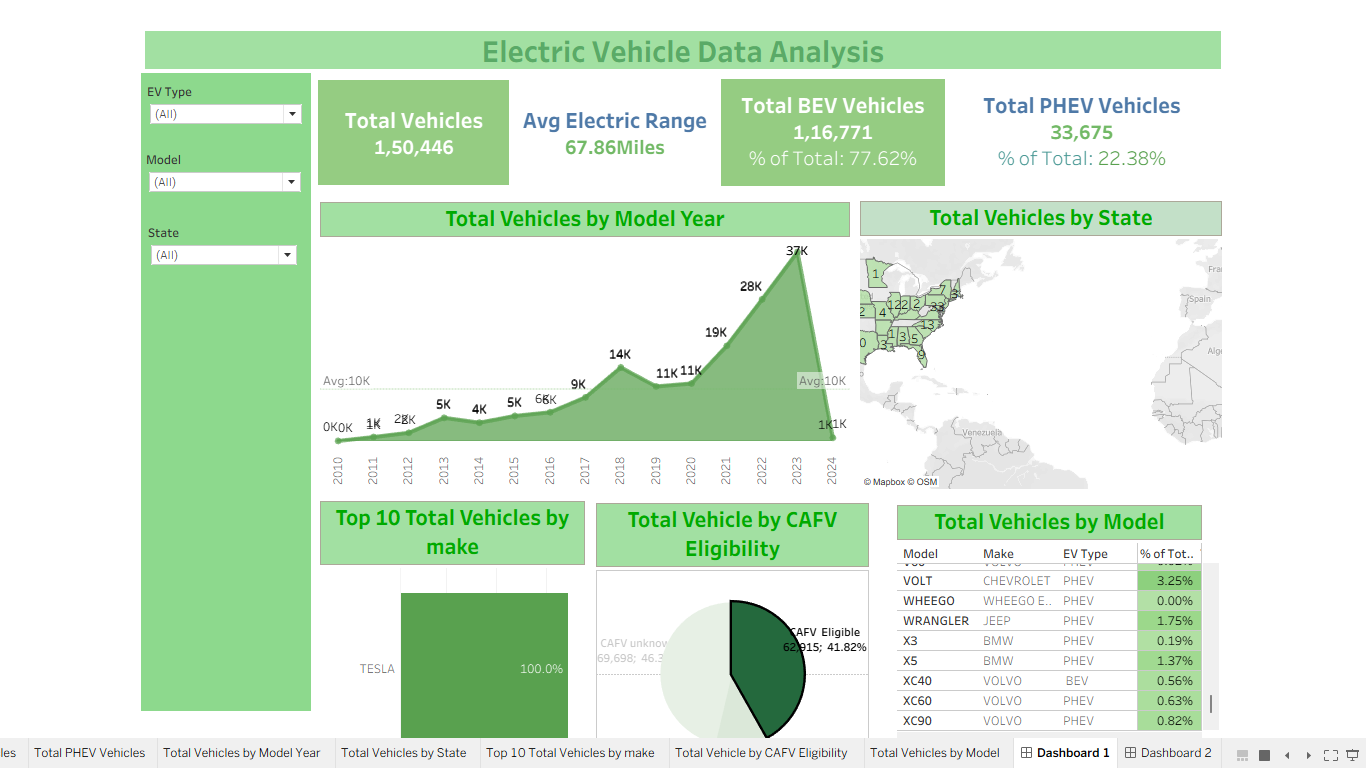

What the dashboard file says about the page in this screenshot:
{"tool":"tableau","page":{"name":"Dashboard 1","canvas":[1100,700],"ordinal":0},"visuals":[{"type":"title","box":[8,8,1084,46]},{"type":"worksheet","title":"Total Vehicles","mark":"Automatic","box":[184.3,60,193,107]},{"type":"worksheet","title":"Avg Electric Ranges","mark":"Automatic","box":[377.3,60,211,107]},{"type":"worksheet","title":"Total BEV Vehicles","mark":"Automatic","box":[588.3,60,224,107]},{"type":"worksheet","title":"Total PHEV Vehicles","mark":"Automatic","box":[812.3,60,273.7,107]},{"type":"filter","title":"Total Vehicles by Model Year","param":"[federated.1l9srur06iqtxf1brun9r1808gy7].[none:Electric Vehicle Type:nk]","box":[14,64,158,48]},{"type":"filter","title":"Total Vehicles by Model Year","param":"[federated.1l9srur06iqtxf1brun9r1808gy7].[none:Model:nk]","box":[13,132,158,54]},{"type":"worksheet","title":"Total Vehicles by State","mark":"Multipolygon","box":[727,182,362,288]},{"type":"worksheet","title":"Total Vehicles by Model Year","mark":"Area","rows":["Calculation_0860666167582720","Calculation_0860666167582720"],"cols":["Model Year"],"box":[187,183,530,290]},{"type":"filter","title":"Total Vehicles by Model Year","param":"[federated.1l9srur06iqtxf1brun9r1808gy7].[none:State:nk]","box":[15,205,152,55]}]}

Visuals, with their boxes on the page's 1100x700 design canvas (x1, y1, x2, y2). These are canvas units, not pixel positions in the 1366x768 screenshot, which may show the page scaled, cropped or inside an application window:
title: box(8, 8, 1092, 54)
"Total Vehicles" worksheet: box(184, 60, 377, 167)
"Avg Electric Ranges" worksheet: box(377, 60, 588, 167)
"Total BEV Vehicles" worksheet: box(588, 60, 812, 167)
"Total PHEV Vehicles" worksheet: box(812, 60, 1086, 167)
"Total Vehicles by Model Year" filter: box(14, 64, 172, 112)
"Total Vehicles by Model Year" filter: box(13, 132, 171, 186)
"Total Vehicles by State" worksheet (Multipolygon marks): box(727, 182, 1089, 470)
"Total Vehicles by Model Year" worksheet (Area marks): box(187, 183, 717, 473)
"Total Vehicles by Model Year" filter: box(15, 205, 167, 260)
